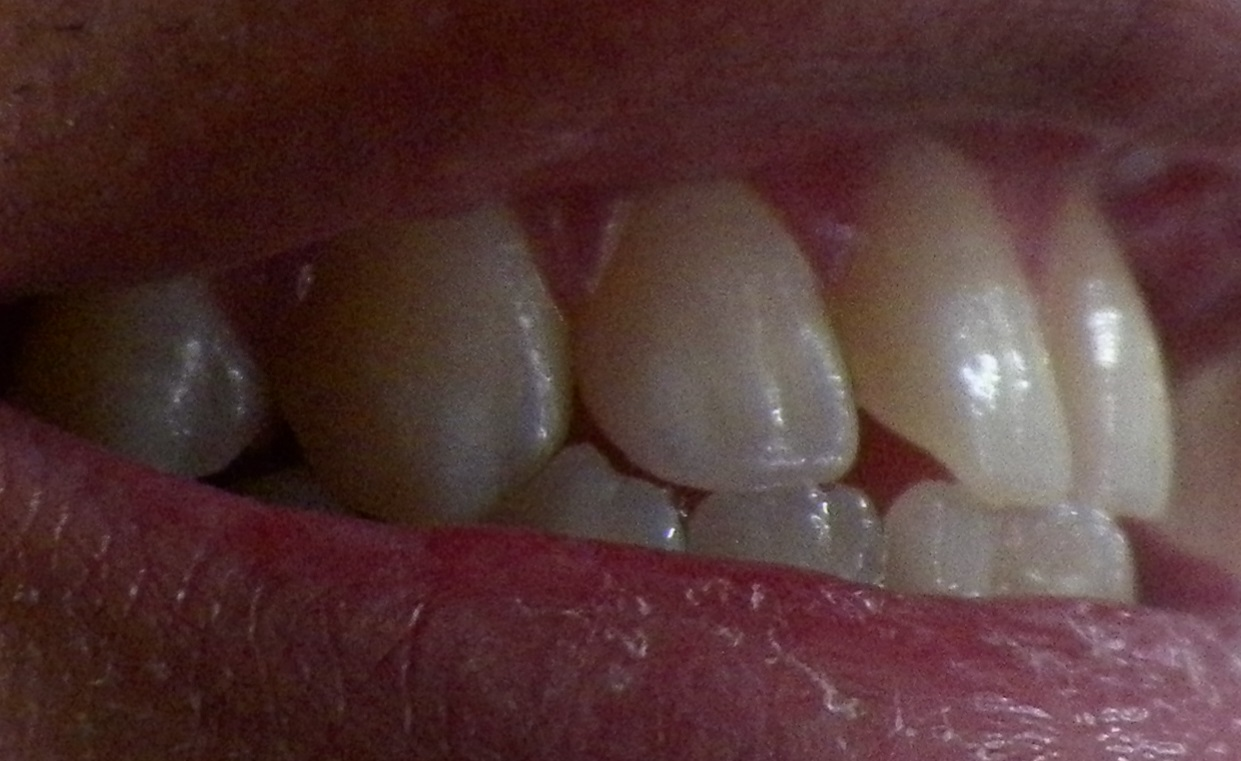boca: (39, 157, 1185, 611)
